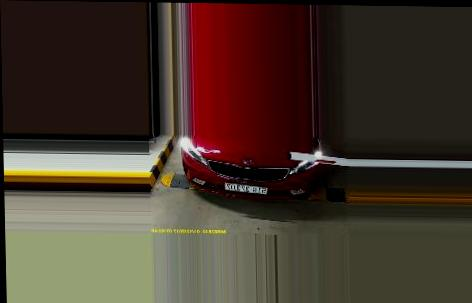License_Plate: (222, 181, 272, 196)
